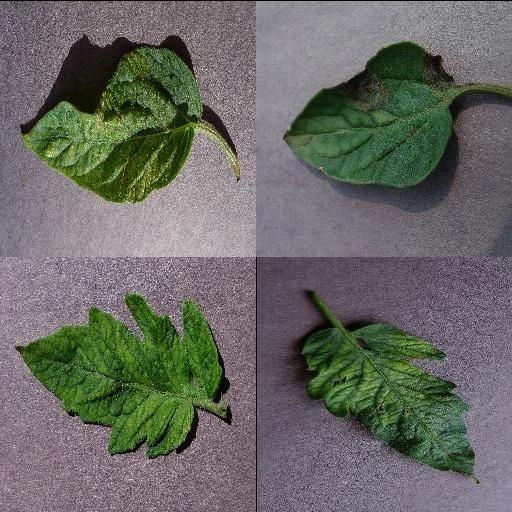Late Blight: (281, 41, 455, 187)
Mosaic Virus: (13, 292, 223, 460), (299, 321, 475, 475)
Spider Mites: (22, 45, 202, 203)
